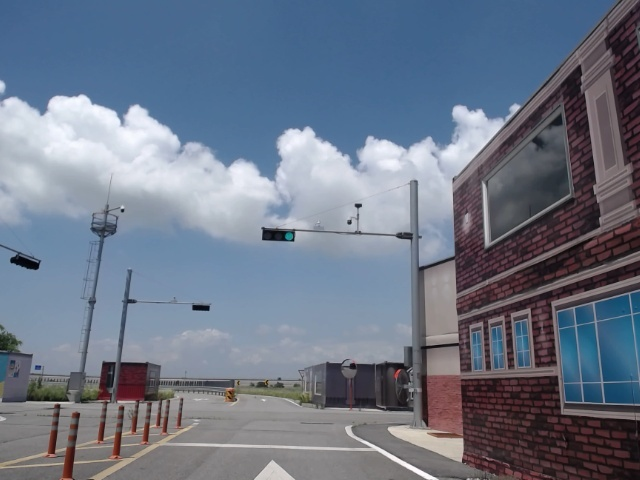green_3: (262, 230, 294, 239)
